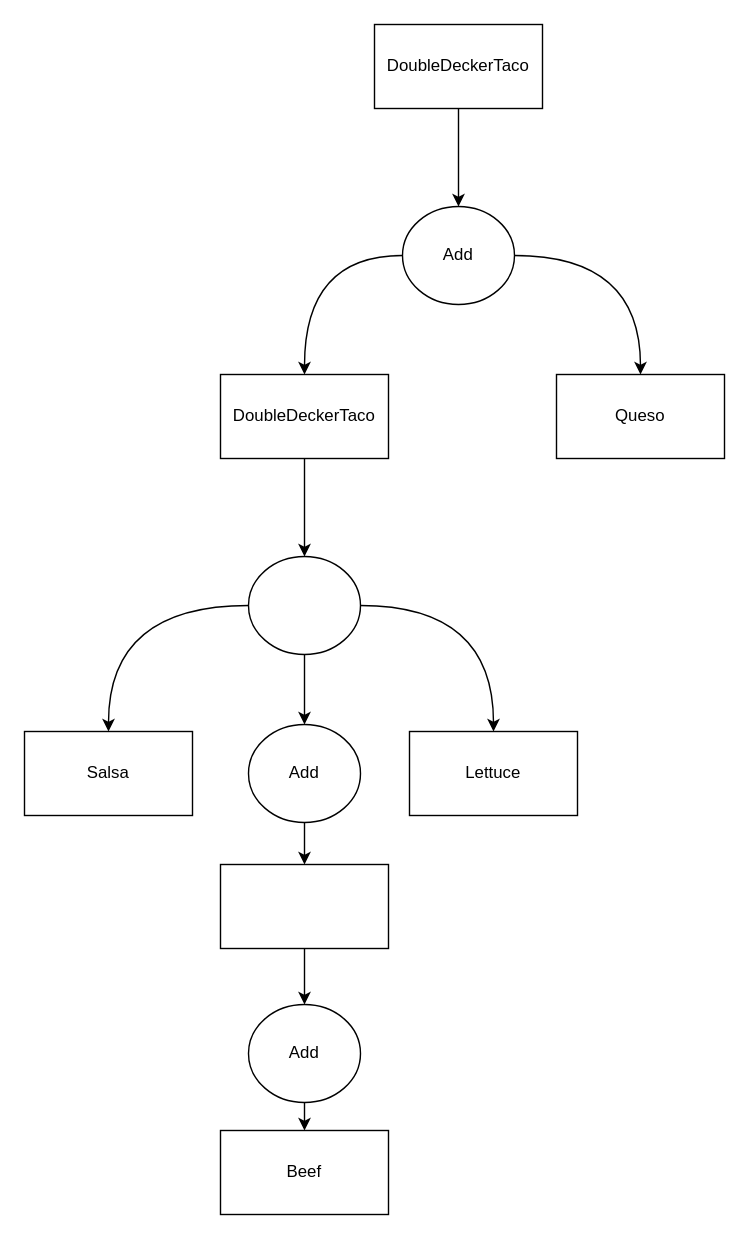
This 749x1239 diagram has some shape labels left out. Each missing label, with the centre of its shape:
Modify Tacos: (303,604)
Taco: (303,905)
